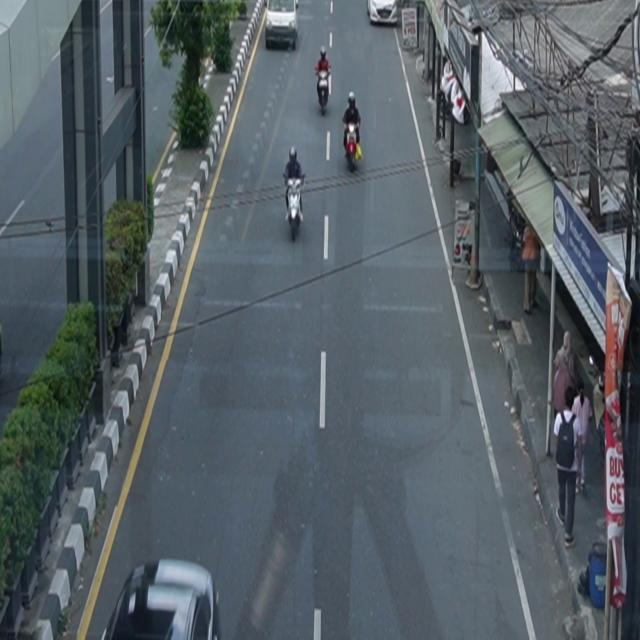car: (102, 559, 222, 640), (266, 1, 300, 51), (367, 1, 398, 26)
